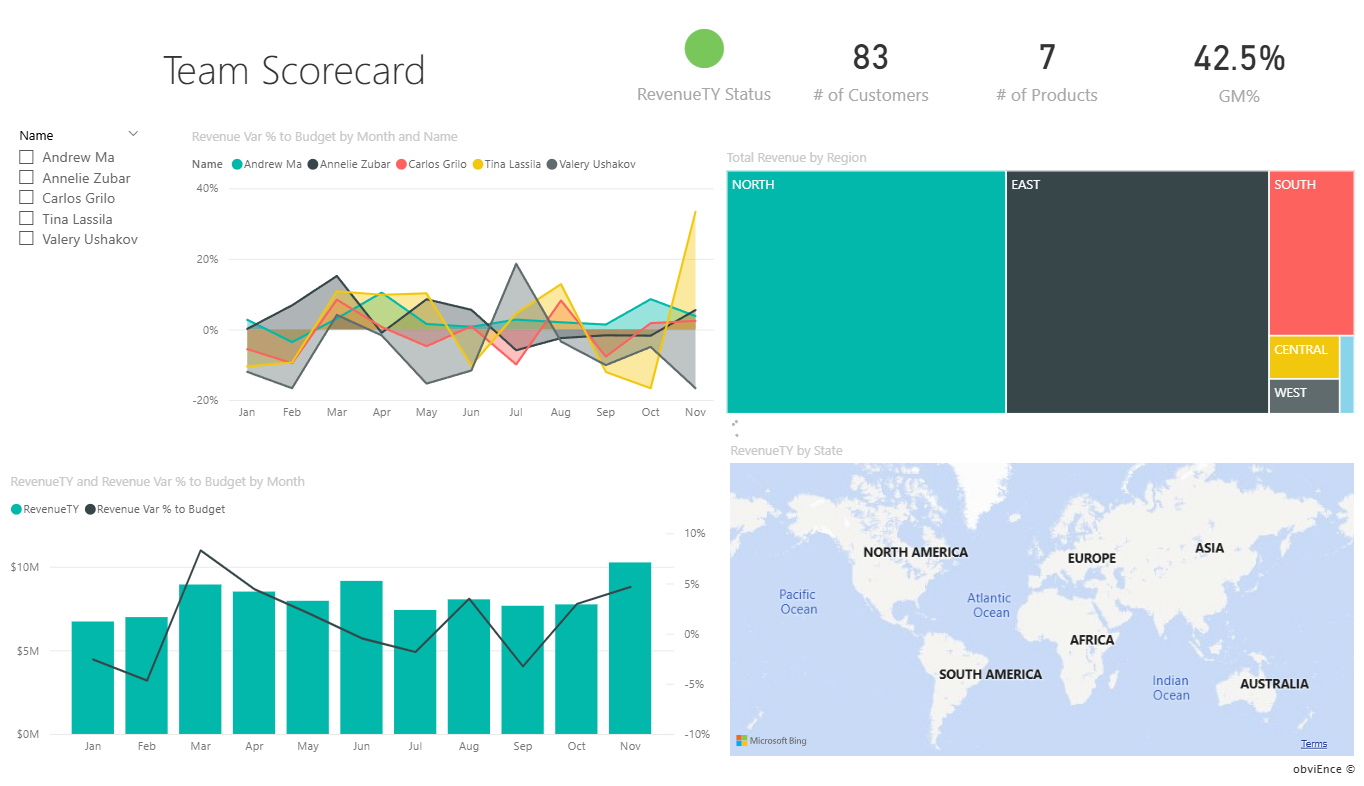

This screenshot's page, from the dashboard's own definition file:
{"tool":"powerbi","page":{"name":"Team Scorecard","canvas":[1280,720],"ordinal":1},"visuals":[{"type":"textbox","box":[1134.6,679.5,136.7,33.8],"z":0},{"type":"textbox","box":[18.8,12.5,521.5,63.9],"z":1000},{"type":"slicer","fields":{"Values":["Executive.Name"]},"box":[10.4,92,136.5,138.1],"z":2000},{"type":"areaChart","fields":{"Category":["Date.Month"],"Y":["Fact.Revenue Var % to Budget"],"Series":["Executive.Name"]},"box":[179.2,97.3,495.4,281.6],"z":3000},{"type":"treemap","fields":{"Group":["State.Region"],"Values":["Fact.Total Revenue"]},"box":[677.1,117.8,593.9,252.2],"z":4000},{"type":"card","fields":{"Values":["Fact.# of Customers"]},"box":[730.9,0,169.2,81.5],"z":5000},{"type":"card","fields":{"Values":["Fact._RevenueTY Status"]},"box":[577.9,0,165.5,80.2],"z":6000},{"type":"card","fields":{"Values":["Fact.GM%"]},"box":[1063.1,0,191.8,82.7],"z":7000},{"type":"card","fields":{"Values":["Fact.# of Products"]},"box":[898.9,0,161.7,81.5],"z":8000},{"type":"lineStackedColumnComboChart","fields":{"Y":["Fact.RevenueTY"],"Category":["Date.Month"],"Y2":["Fact.Revenue Var % to Budget"]},"box":[10.2,418.6,661.8,271.4],"z":9000},{"type":"filledMap","fields":{"Category":["State.State"]},"box":[679.7,389.1,590.1,298.2],"z":10000}]}

Visuals, with their boxes in screenshot pixels (x1, y1, x2, y2), scaled from the page's 1280x720 canvas onto the 1364x786 screenshot:
textbox: rect(1209, 742, 1355, 779)
textbox: rect(20, 14, 576, 83)
slicer - Executive.Name: rect(11, 100, 157, 251)
areaChart - Date.Month x Fact.Revenue Var % to Budget: rect(191, 106, 719, 414)
treemap - State.Region x Fact.Total Revenue: rect(722, 129, 1354, 404)
card - Fact.# of Customers: rect(779, 0, 959, 89)
card - Fact._RevenueTY Status: rect(616, 0, 792, 88)
card - Fact.GM%: rect(1133, 0, 1337, 90)
card - Fact.# of Products: rect(958, 0, 1130, 89)
lineStackedColumnComboChart - Fact.RevenueTY x Date.Month: rect(11, 457, 716, 753)
filledMap - State.State: rect(724, 425, 1353, 750)
